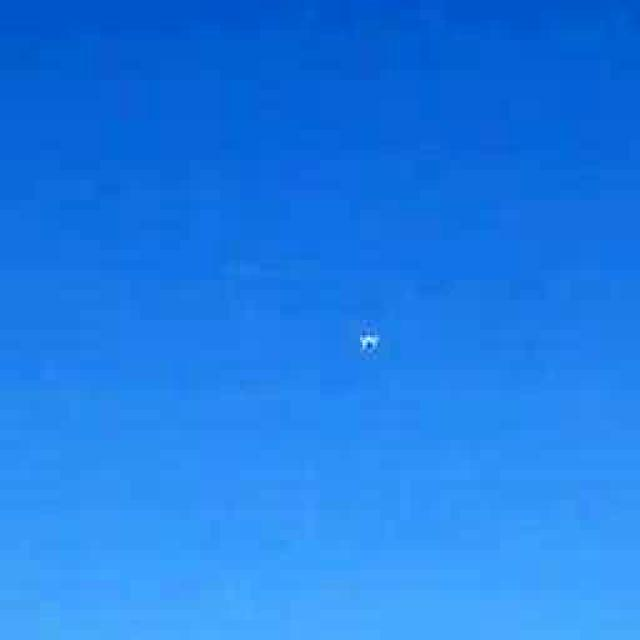bird: (332, 298, 408, 385)
